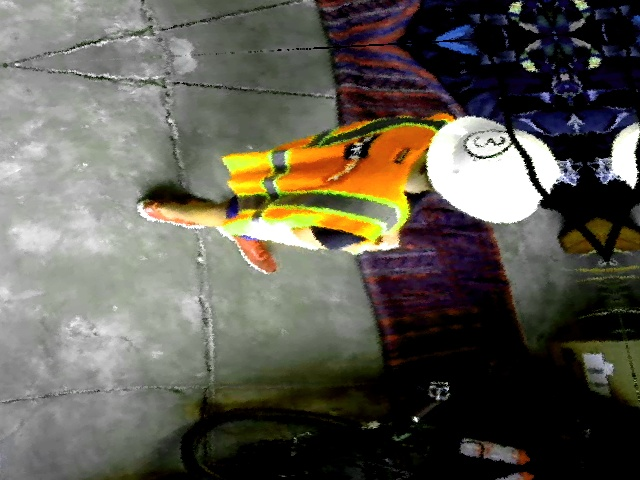three: (461, 128, 514, 159)
